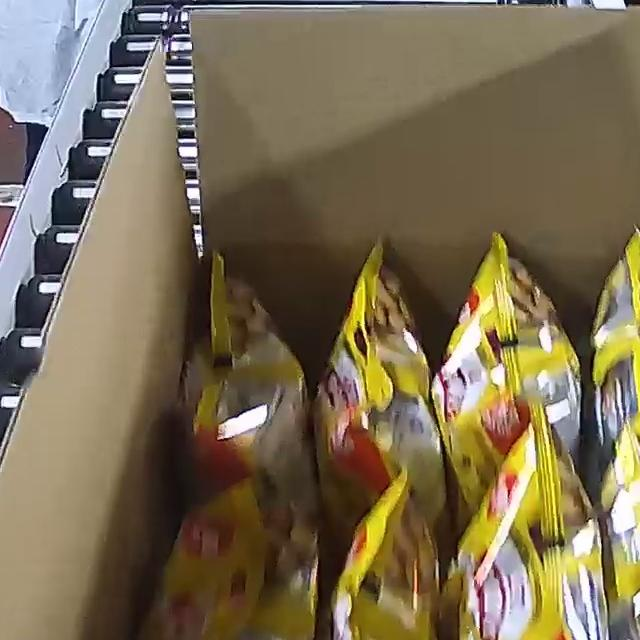salted: (78, 223, 640, 640)
